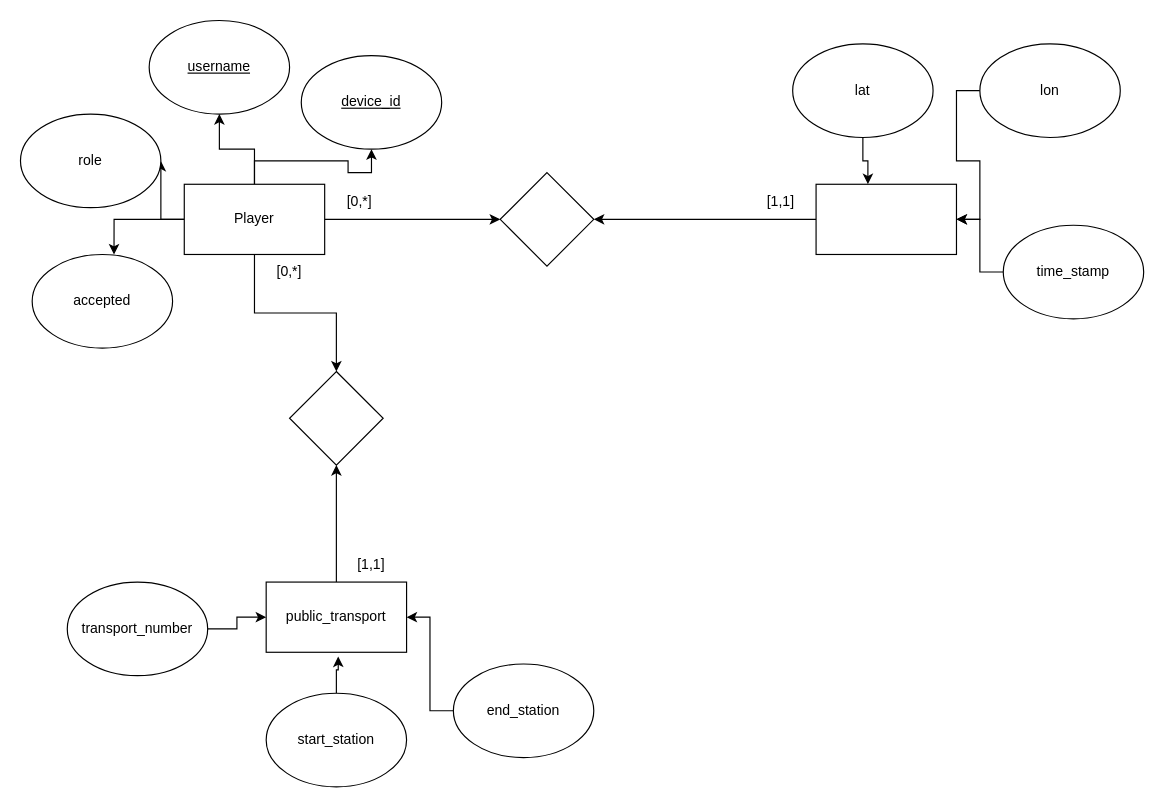
Image size: 1164x807. Some labels were removed from this diagram. Here are the shapes that lost their labels. From the top down, the centre of each, then its label:
At point (546, 218): "has".
At point (885, 218): "Position".
At point (335, 417): "took".
